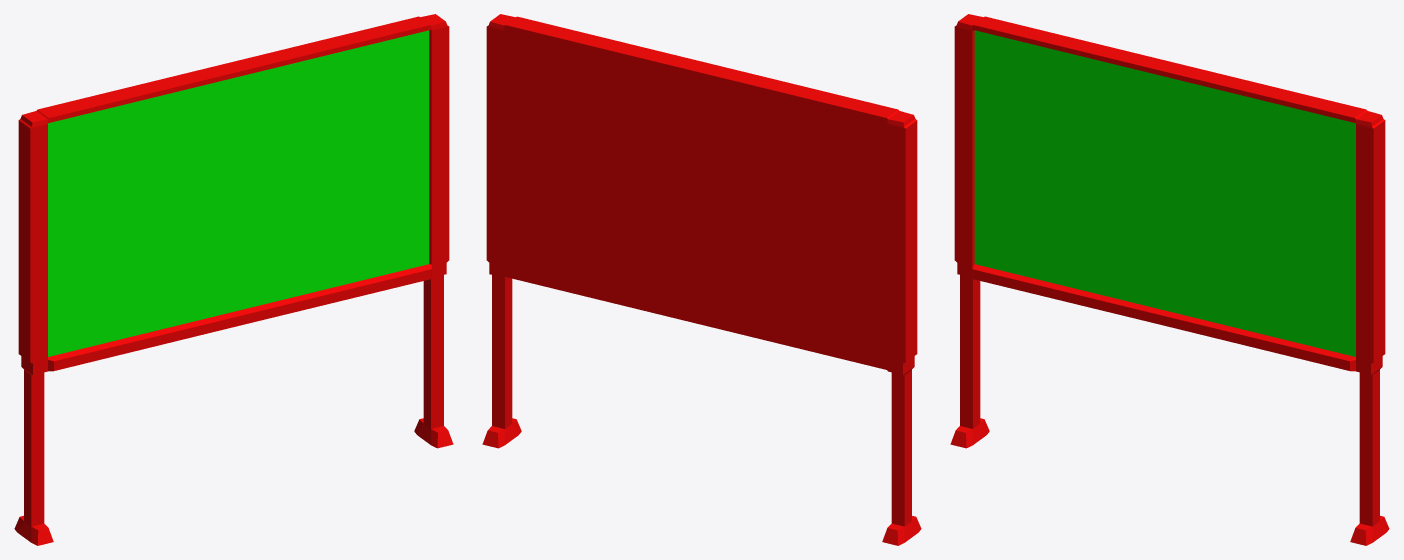
Rendered from Pizarra.fbx.
3 views of the same model, side by side, from view 1: azimuth 30°, elevation 25°; view 2: azimuth 150°, elevation 25°; view 3: azimuth 330°, elevation 25° (orthographic).
Parts seen in each view (by area): view 1: Pizarra; view 2: Pizarra; view 3: Pizarra.
Boxes of the visible parts, x1,y1,x2,y2 form: Pizarra: (14,14,453,545); Pizarra: (482,14,921,545); Pizarra: (950,14,1389,545).
Bounding box in the file's own units: 188 × 180 × 18.13.
